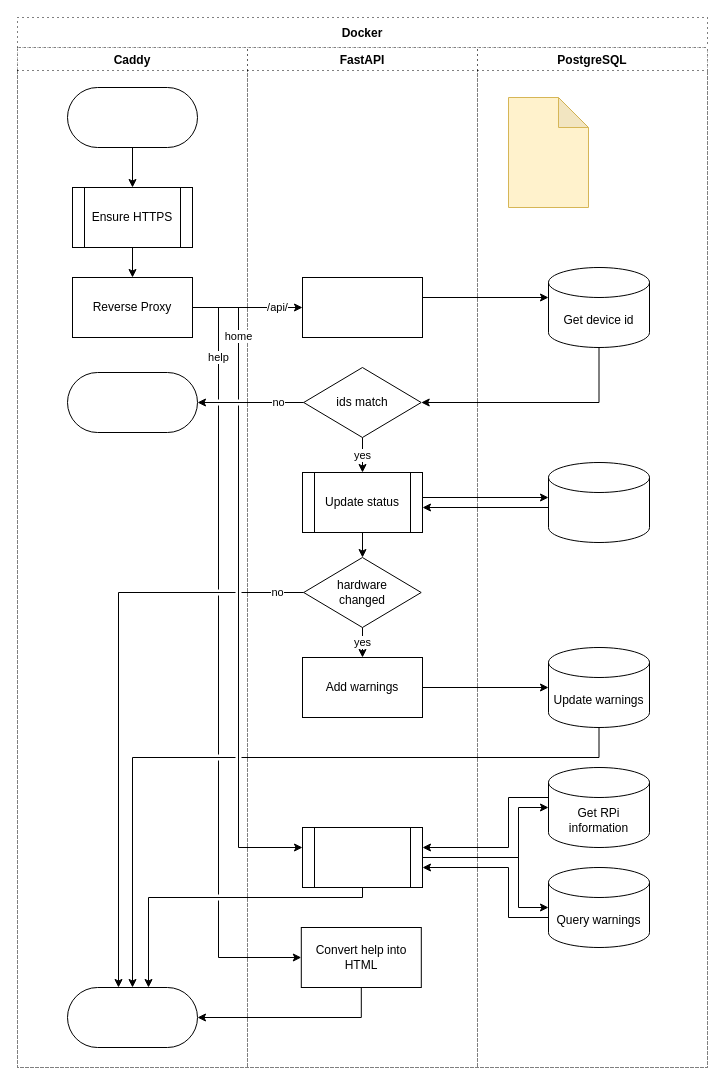
This 725x1085 diagram has some shape labels left out. Here are the shapes that lost their labels. From the top down, the box of each, then its label:
(66, 86, 198, 148): HTTP received
(508, 96, 588, 208): Where does IDP go?
(302, 276, 422, 338): Compare device ids
(66, 372, 198, 432): Reply 403 forbidden
(548, 462, 650, 542): Get/update status info
(302, 826, 422, 888): Generate homepage
(66, 986, 198, 1048): Reply with response
